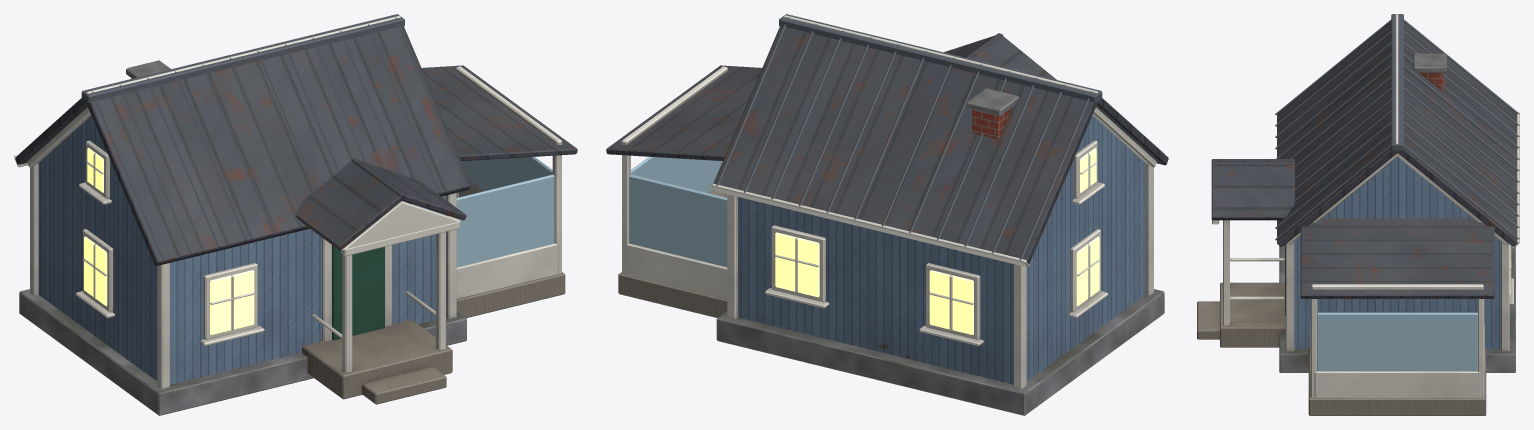
The model's file is blastuga_tex.glb.
3 renders of one model, left to right at view 1: azimuth 30°, elevation 25°; view 2: azimuth 150°, elevation 25°; view 3: azimuth 270°, elevation 25°, orthographic. The views are drawn at different scales.
Parts seen in each view (by area): view 1: blastuga; view 2: blastuga; view 3: blastuga.
Part boxes in pixels (x1=…): blastuga: x1=14, y1=14, x2=577, y2=415; blastuga: x1=606, y1=14, x2=1168, y2=415; blastuga: x1=1197, y1=14, x2=1519, y2=415.
Bounding box in the file's own units: 7.91 × 4.75 × 6.
Materials: 11 (8 with a texture image).
